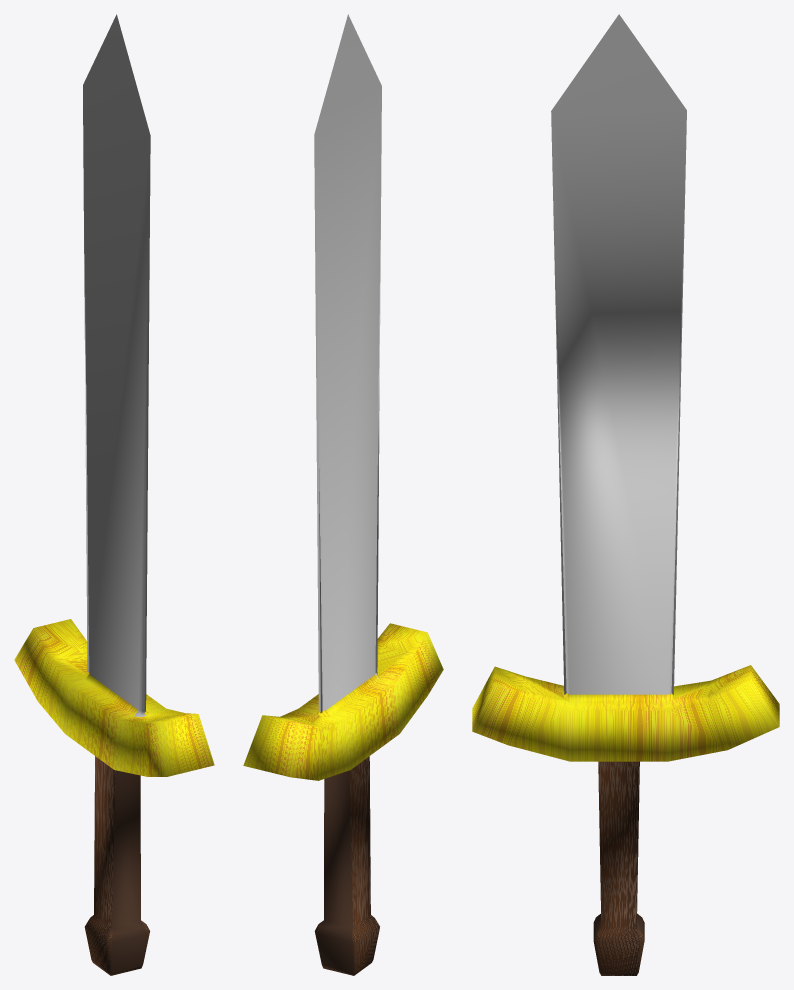
The model's file is sword.fbx.
3 views of the same model, side by side, from view 1: azimuth 30°, elevation 25°; view 2: azimuth 150°, elevation 25°; view 3: azimuth 270°, elevation 25° (orthographic).
Parts seen in each view (by area): view 1: sword.001; view 2: sword.001; view 3: sword.001.
Boxes of the visible parts, x1,y1,x2,y2 form: sword.001: (14, 14, 214, 975); sword.001: (243, 14, 443, 975); sword.001: (472, 14, 779, 975).
Bounding box in the file's own units: 96.38 × 1549 × 452.
